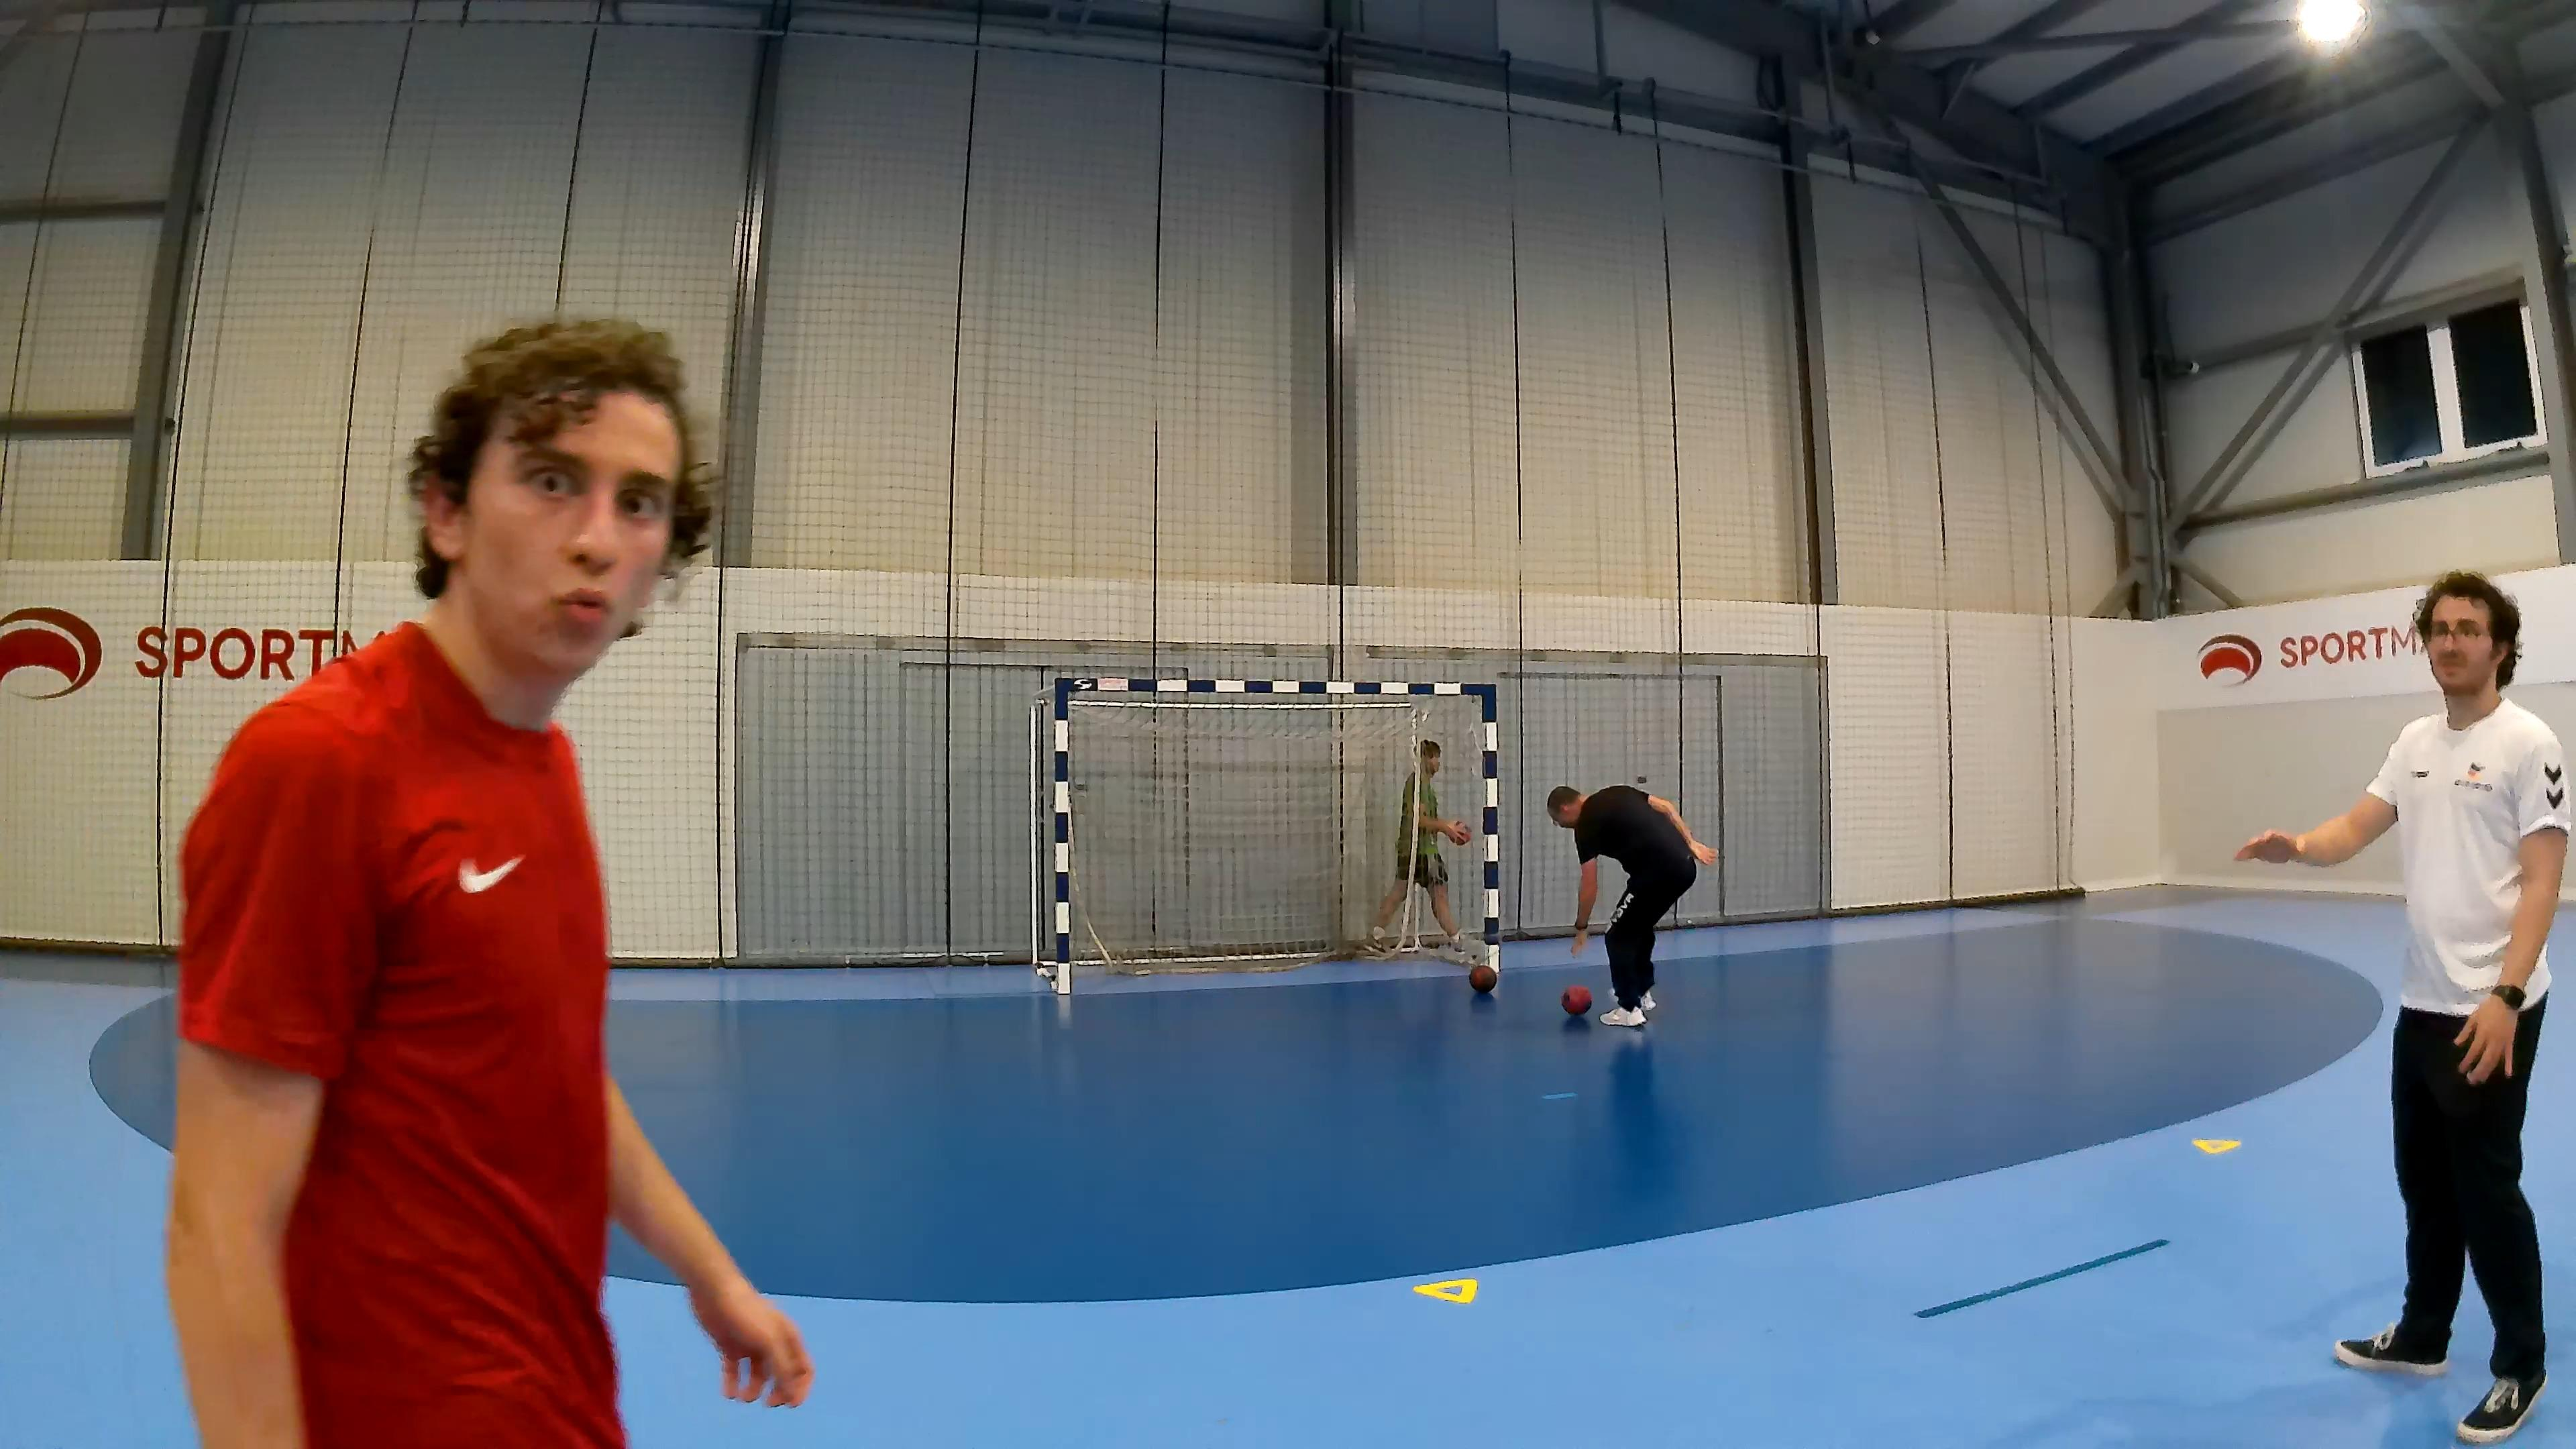handball: (1560, 984, 1592, 1016), (1468, 962, 1497, 993)
